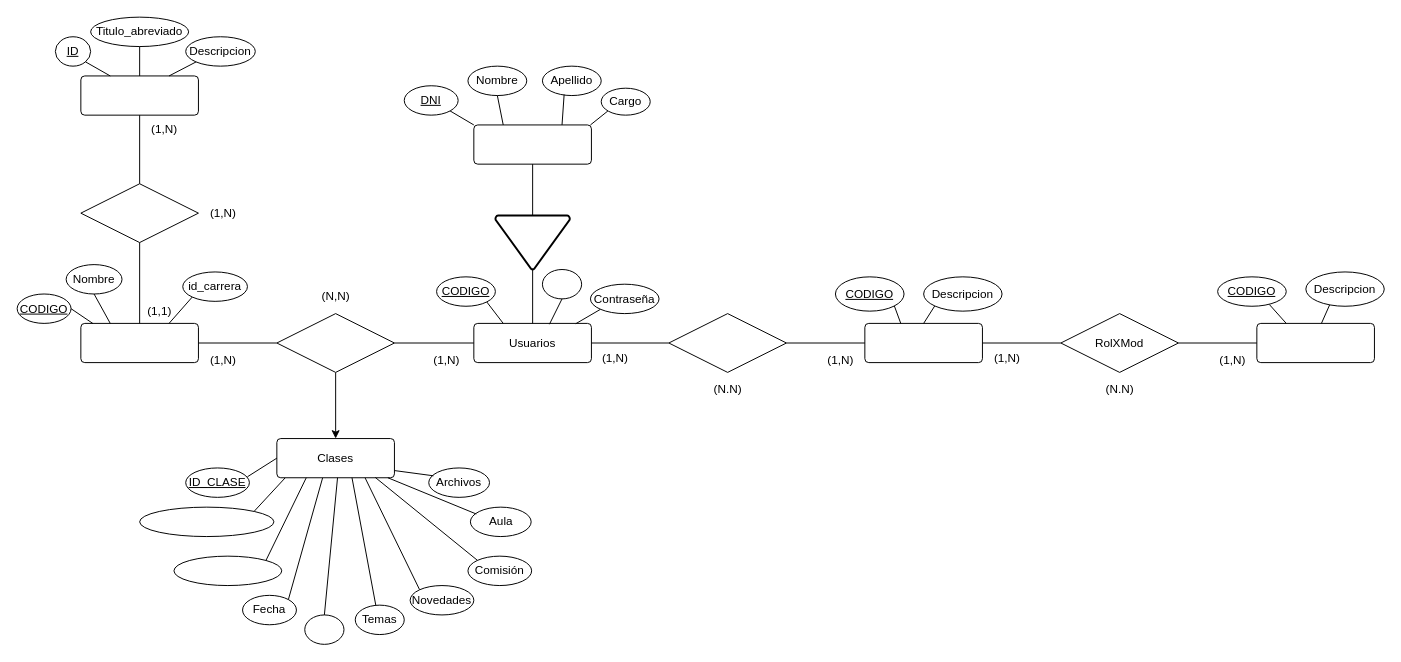
The diagram is 1401 pixels wide and 662 high, and some of its shapes have lost their labels. Each missing label, with the centre of its shape:
Carreras: [139,95]
CODIGO_MATERIA: [227,570]
CODIGO_USUARIO: [206,521]
ES: [532,242]
Hora: [324,629]
Mail: [561,284]
Materias: [139,342]
Modulos: [1315,342]
Personas: [532,144]
Roles: [923,342]
UsuXRol: [727,342]
